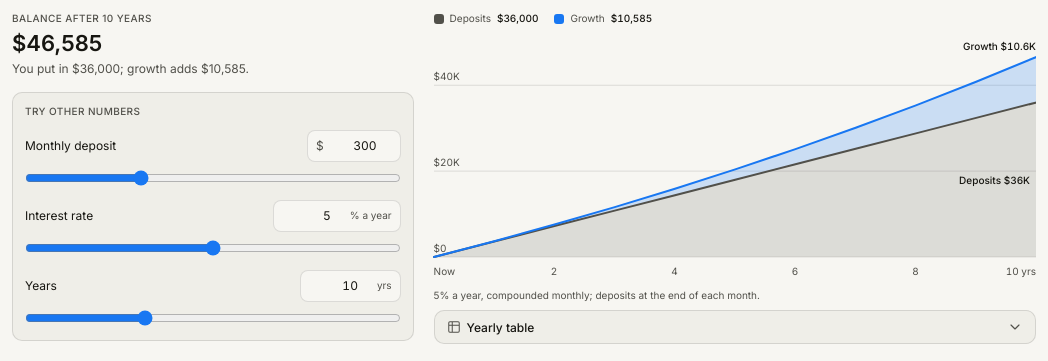
growth-projection: edits › a Svelte parent sees years through onyearschange
This screenshot has width=1048, height=361.
Set the slider named "Years" to "20" at (269, 318), box [25,308,401,328]
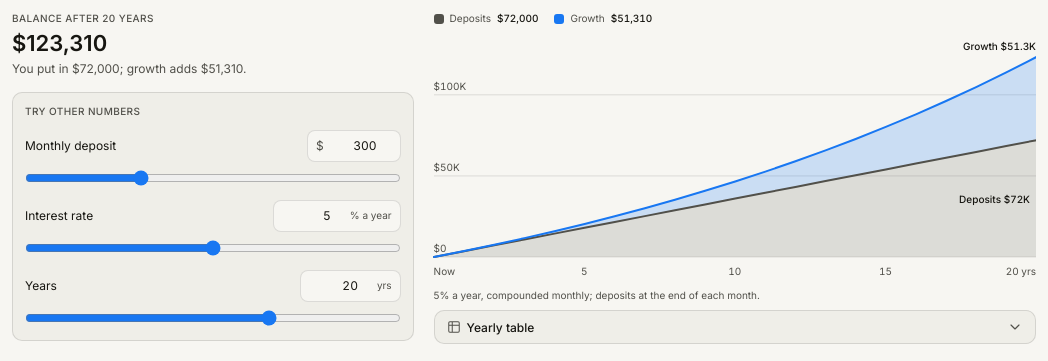
expect the text "Balance after 20 years" is shown: met, box [12,12,154,24]
